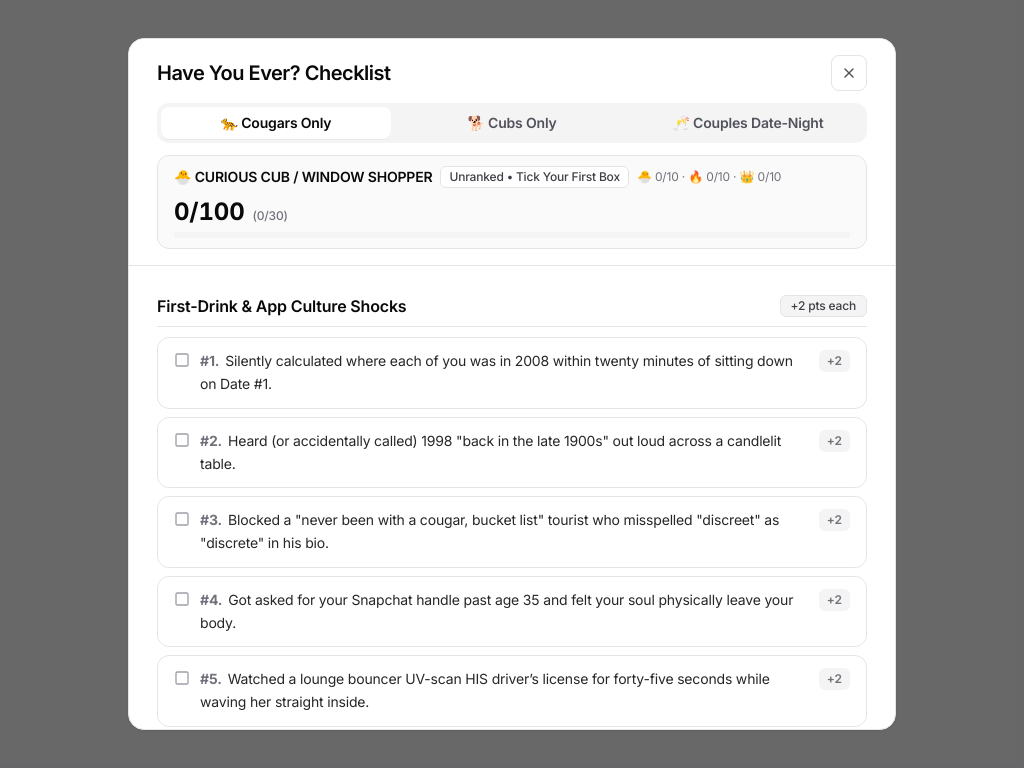
Test case: v42 Interactive Dating-Sim Clickability, Post-Beat Graduation Card & Tactical Text Reactions › pops live subreddit insider quips and Radix progress bar when clicking Checklist items
The image size is (1024, 768).
Click the button "late 1900s": (505, 440) x1=157 y1=417 x2=867 y2=488
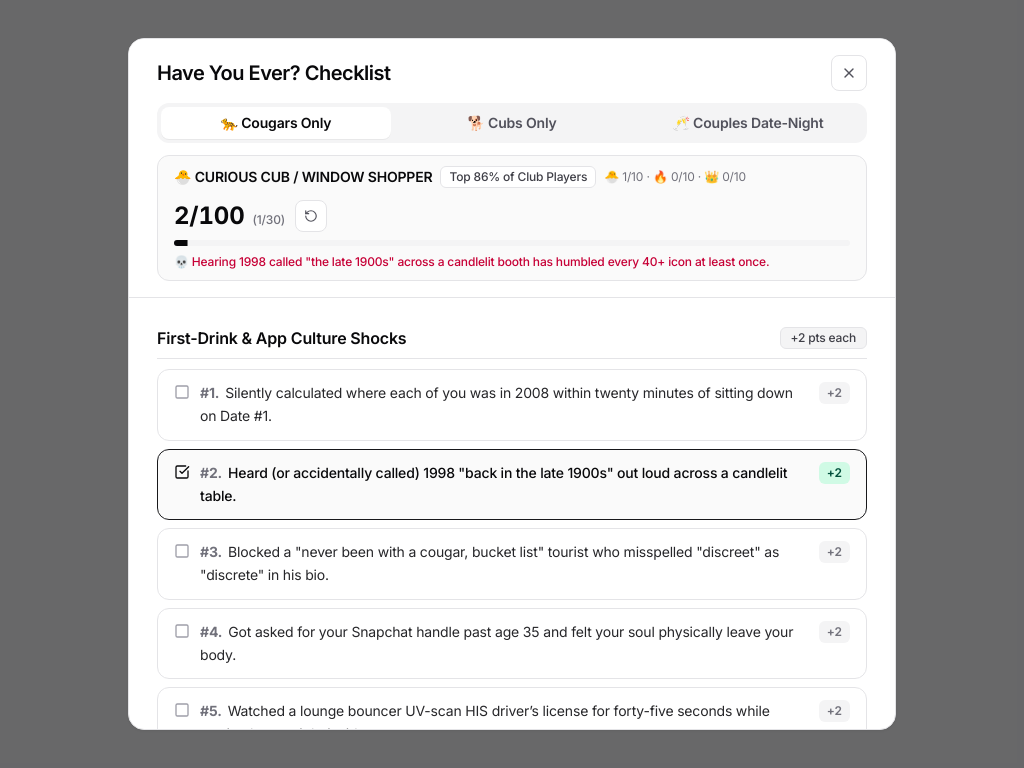
expect the progress indicator is shown: met, box x1=174 y1=240 x2=850 y2=246
expect the text with test id "checklist-live-quip" shows "late 1900s": met, box x1=174 y1=254 x2=769 y2=269
